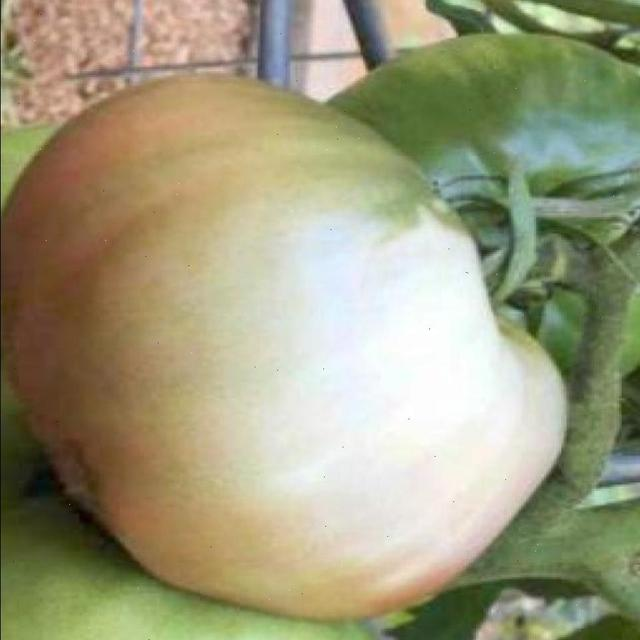Sunscald Fruit: (154, 137, 371, 361)
